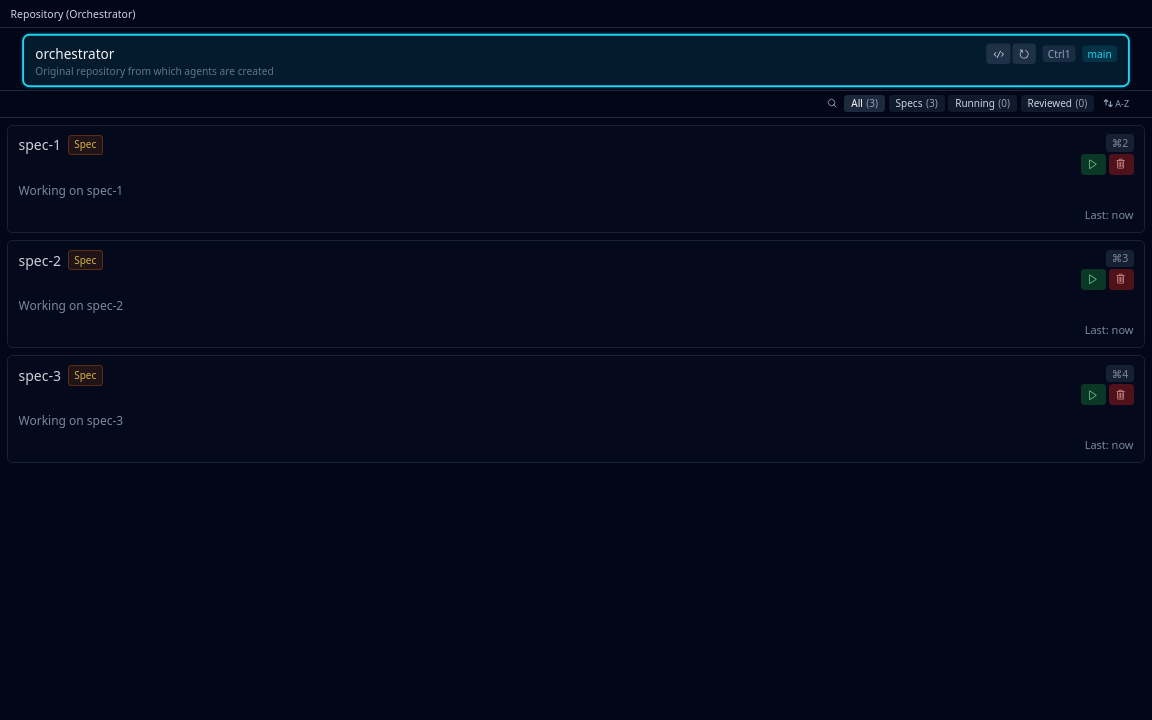
Reviewed session cancellation focus preservation › selects the next spec after deleting the focused spec in spec filter
Click the button titled "Show spec agents": [917, 104] box [889, 95, 945, 112]
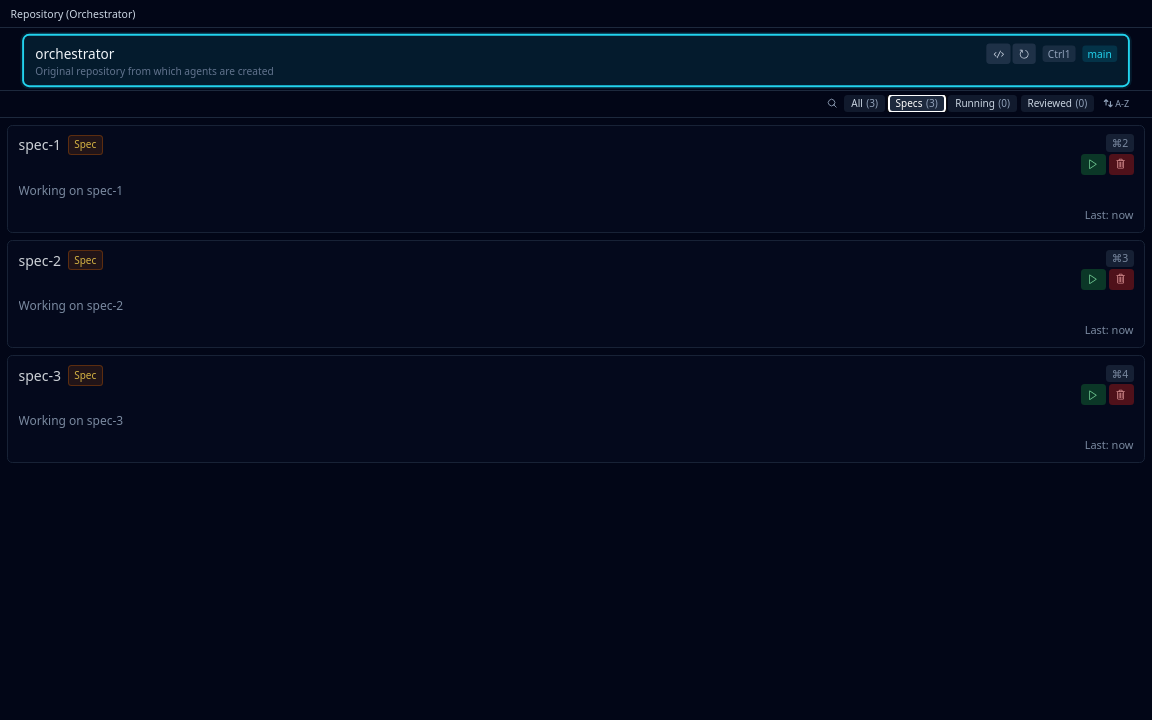
Click the text "spec-2": [60, 260] box [18, 250, 102, 270]
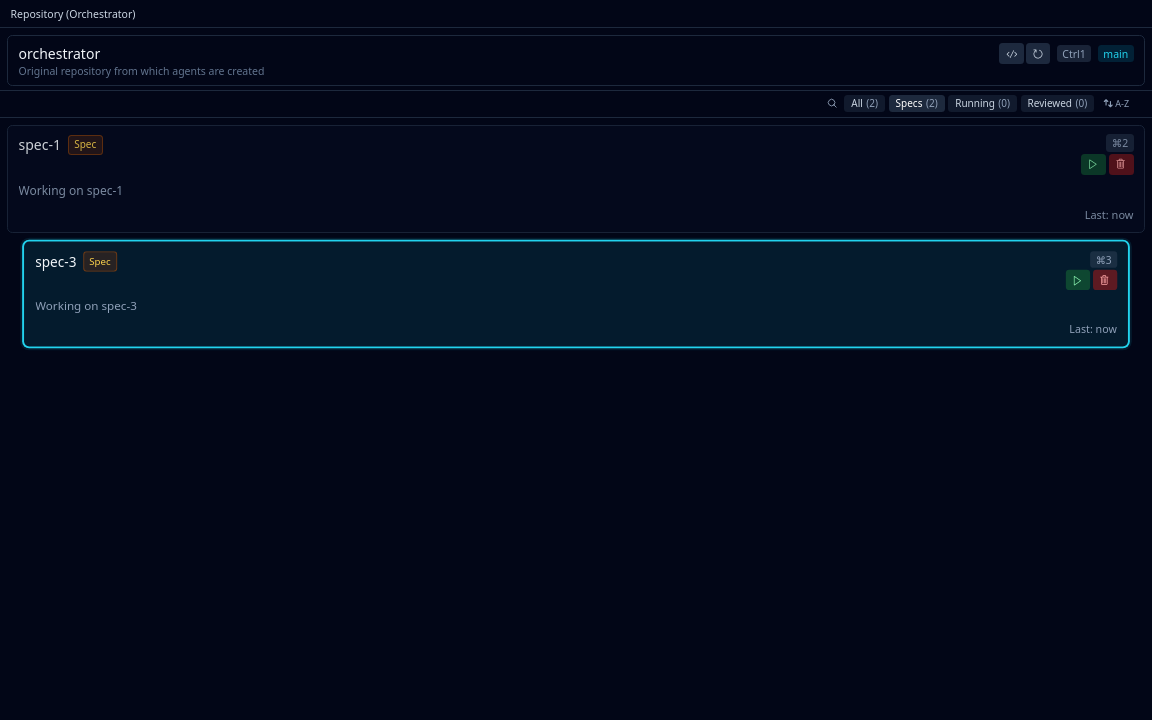
Check: the button "spec-2" is gone
